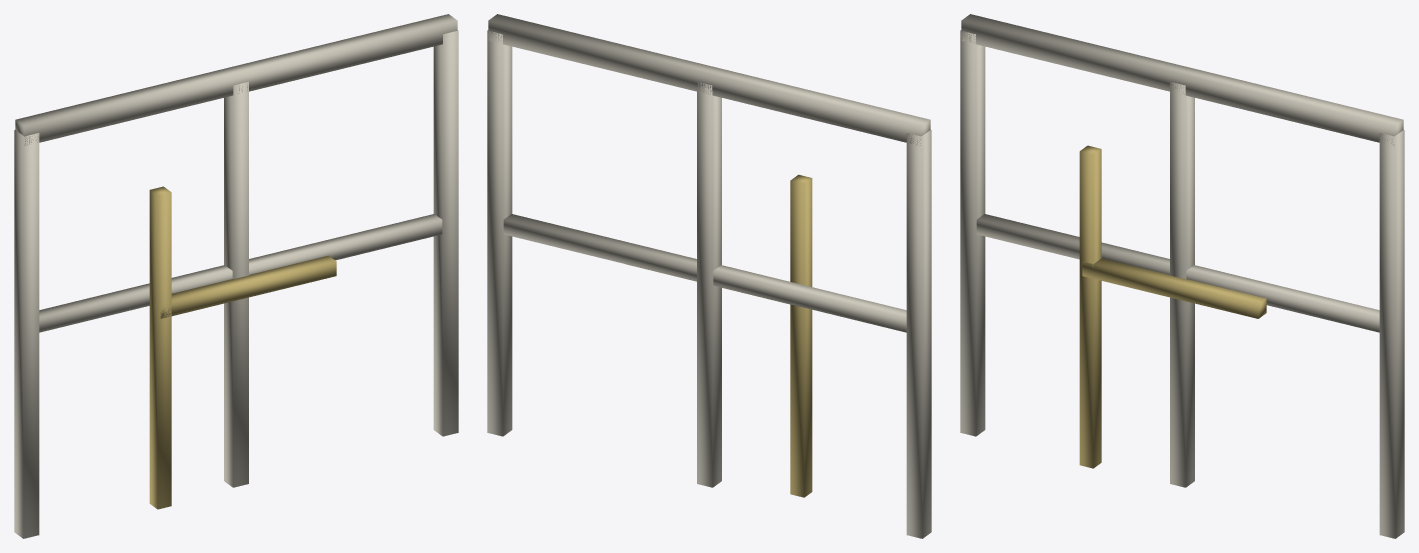
The model's file is civic_gate_l120_h110.glb.
3 renders of one model, left to right at view 1: azimuth 30°, elevation 25°; view 2: azimuth 150°, elevation 25°; view 3: azimuth 330°, elevation 25°, orthographic.
Parts seen in each view (by area): view 1: world; view 2: world; view 3: world.
Boxes of the visible parts, x1,y1,x2,y2 form: world: [14, 14, 458, 538]; world: [487, 14, 931, 538]; world: [960, 14, 1404, 538].
Size of the model in its own units: 1.25 by 1.13 by 0.0825.
